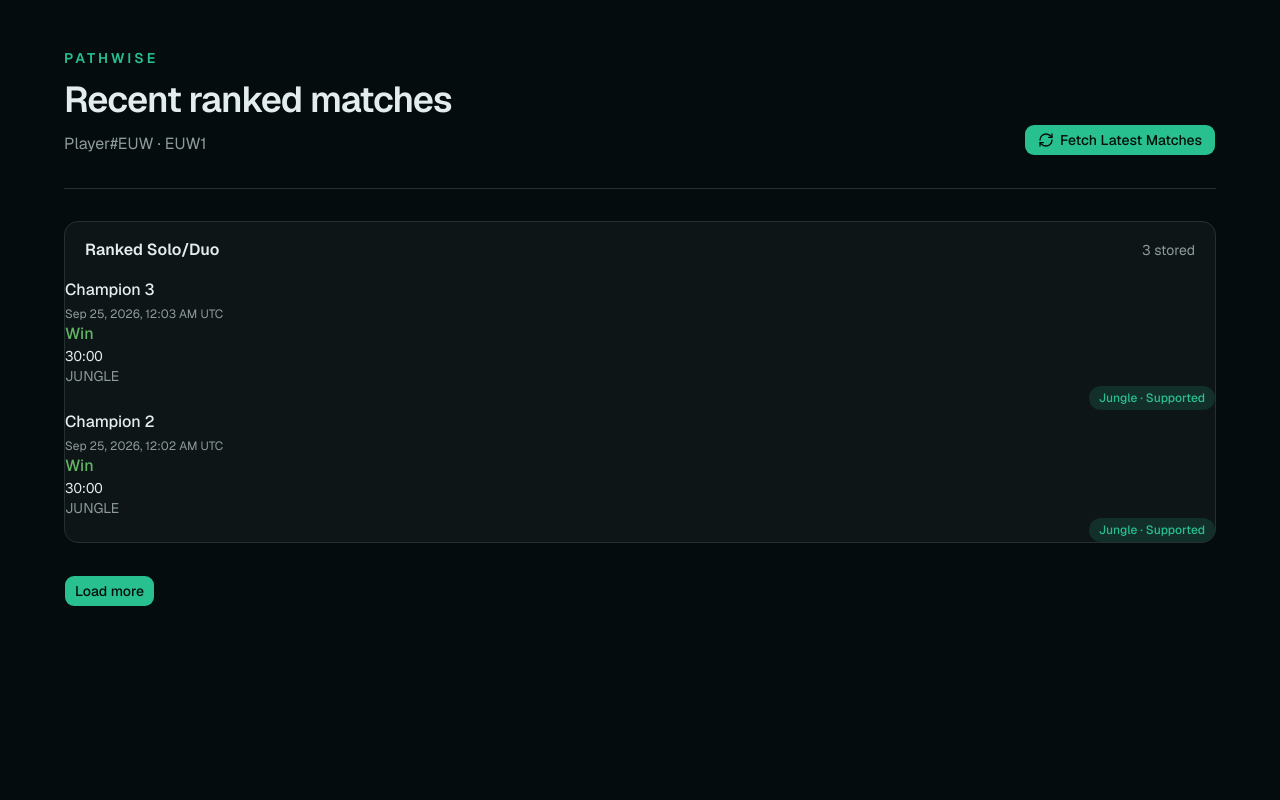
Scenario: resets to the newest page and updated total after fetching
expect the text "3 stored" is shown: met, box [1142, 240, 1195, 260]
Step 1. Click the button "Load more" → [110, 591], box [64, 575, 155, 607]
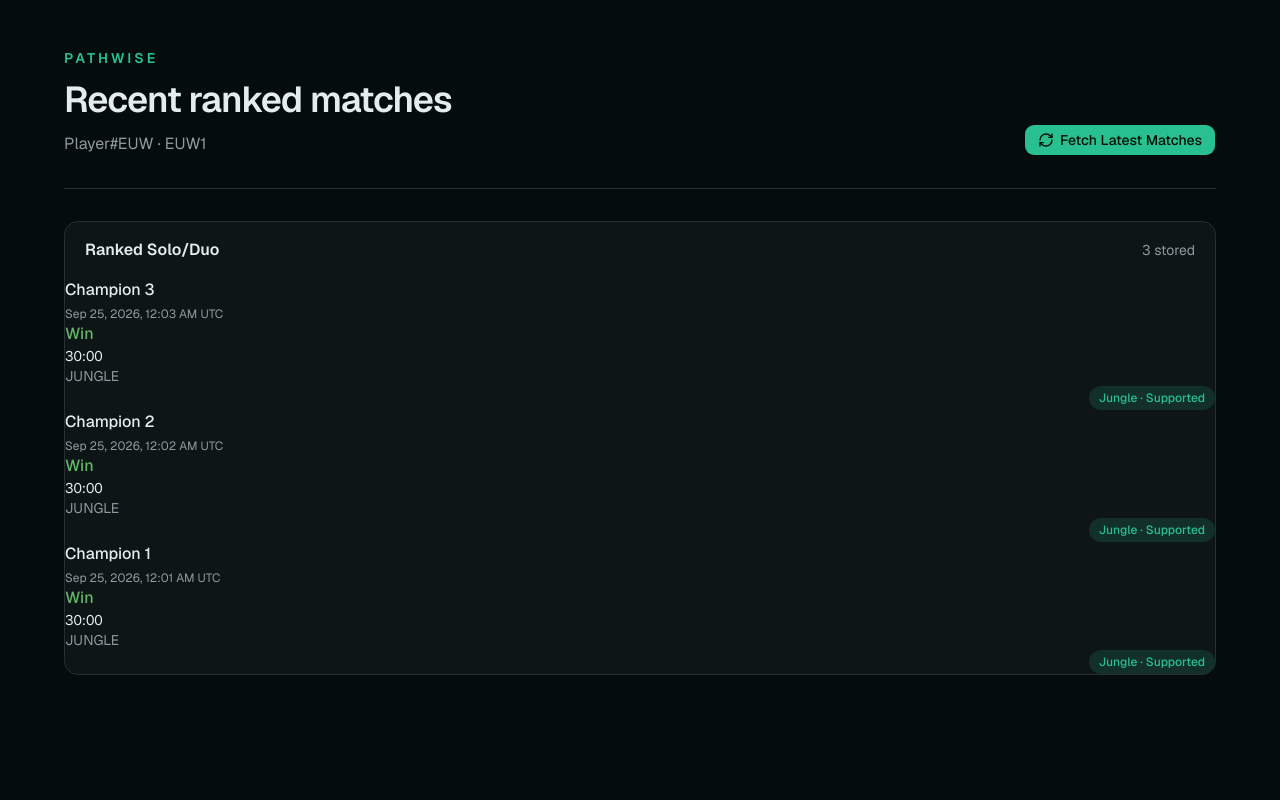
expect the text "Champion 1" is shown: met, box [65, 543, 151, 564]
Step 2. Click the button "Fetch Latest Matches" → [1120, 140], box [1024, 124, 1216, 156]
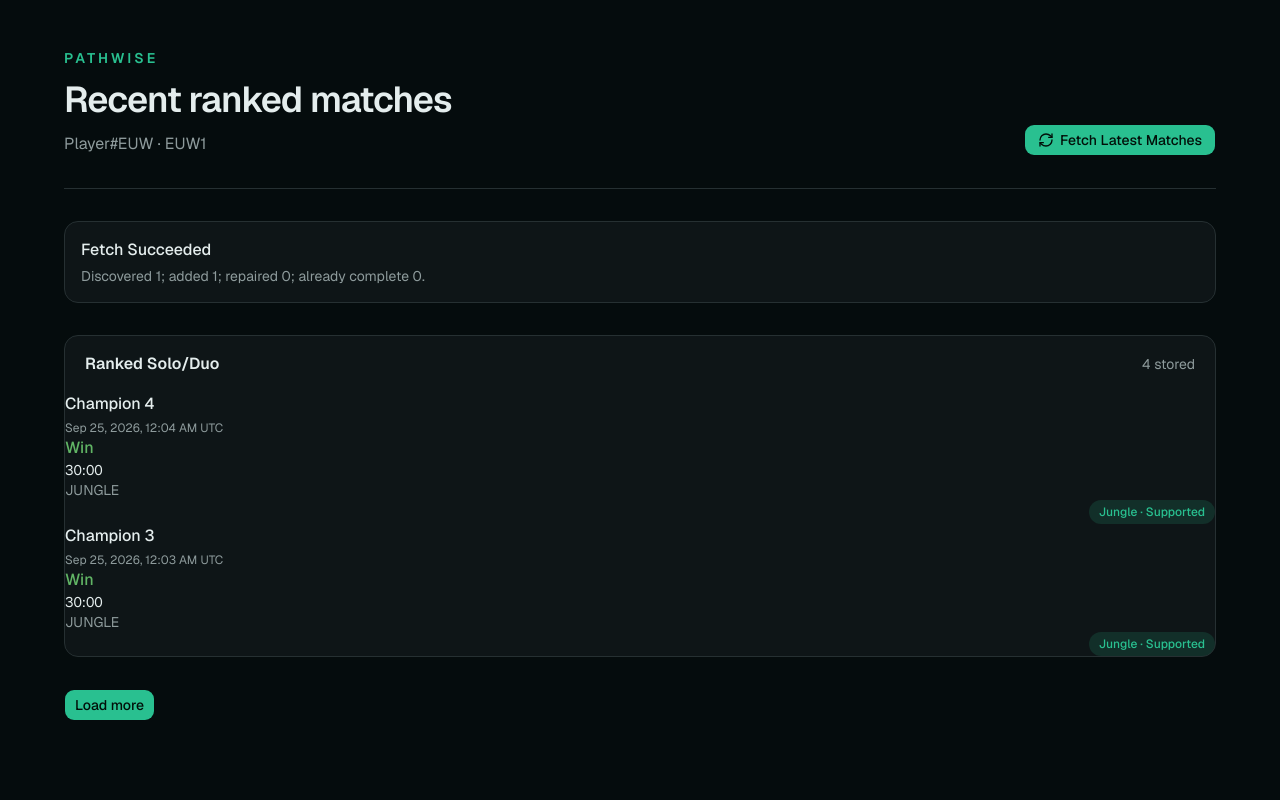
expect the text "4 stored" is shown: met, box [1142, 354, 1195, 374]
expect the text "Champion 4" is shown: met, box [65, 393, 155, 414]
expect the link "Champion 1" is gone: met
